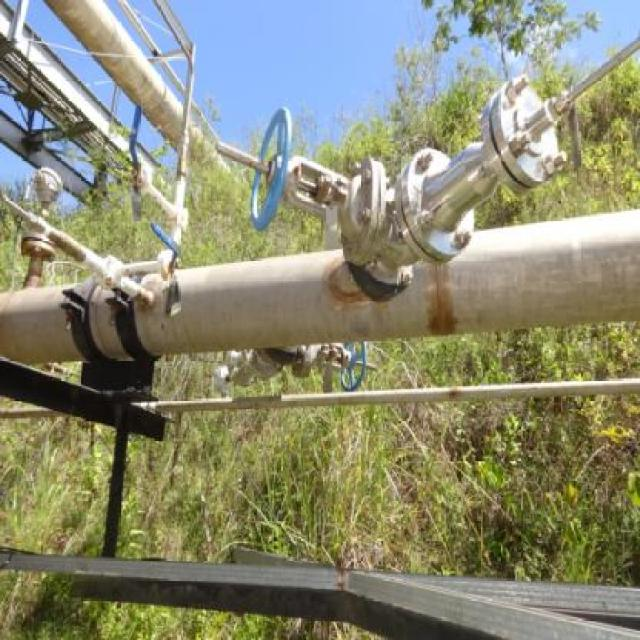gas: (0, 209, 640, 369), (45, 0, 219, 174), (0, 376, 636, 417)
